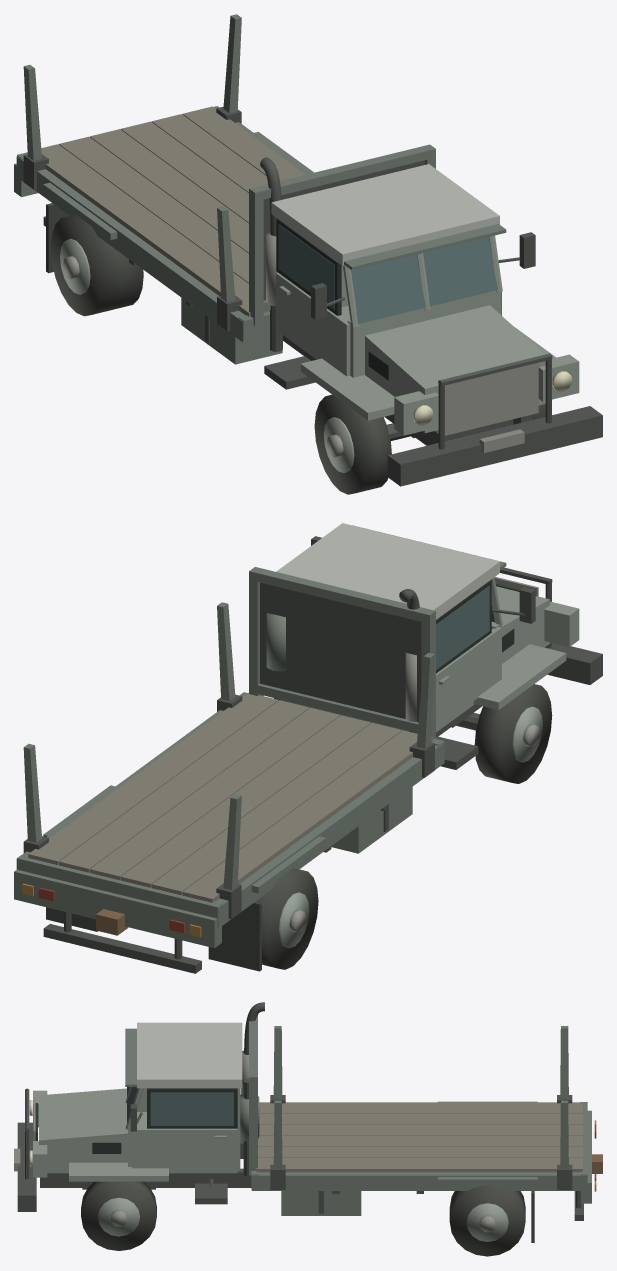
The model's file is extraction_truck-Dzdt_8ZC.glb.
The picture shows the model from 3 angles, top to bottom: view 1: azimuth 30°, elevation 25°; view 2: azimuth 150°, elevation 25°; view 3: azimuth 270°, elevation 25°; orthographic projection. The views are drawn at different scales.
Visible parts, largest first — view 1: Body, RL, FL; view 2: Body, FL, RL; view 3: Body, RR, FR.
Boxes of the visible parts, x1,y1,x2,y2 form: Body: (14, 14, 602, 486); RL: (50, 215, 143, 316); FL: (314, 394, 391, 494); Body: (14, 523, 602, 973); FL: (474, 684, 552, 783); RL: (256, 868, 318, 969); Body: (14, 1002, 602, 1242); RR: (449, 1185, 525, 1256); FR: (81, 1181, 156, 1250).
Bounding box in the file's own units: 0.6741 × 0.7101 × 2.
